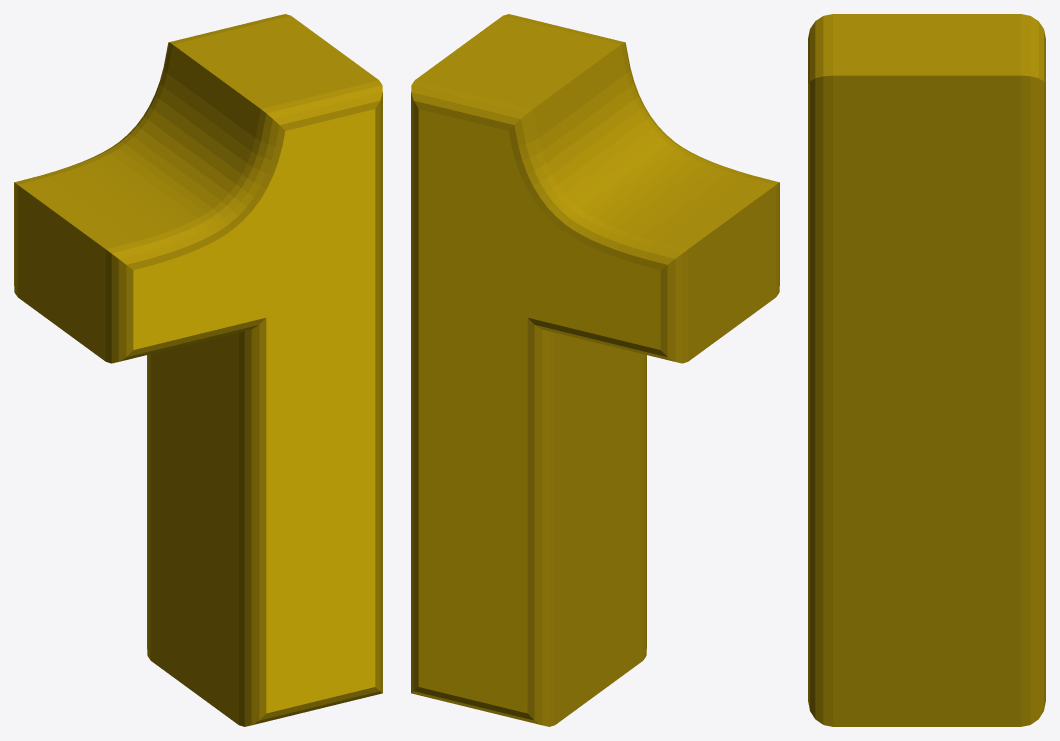
3 views of the same model, side by side, from view 1: azimuth 30°, elevation 25°; view 2: azimuth 150°, elevation 25°; view 3: azimuth 270°, elevation 25° (orthographic). The views are drawn at different scales.
Bounding box in the file's own units: 0.6087 × 1.3 × 0.43.
